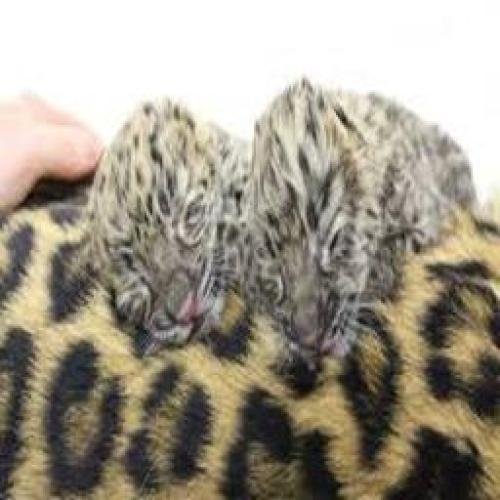amur_leopard-endangered: (238, 80, 478, 358), (74, 97, 243, 352)
